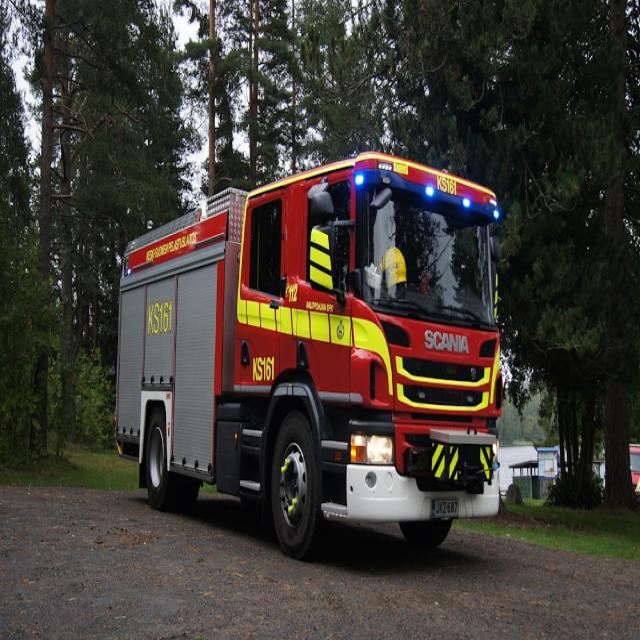emergency: (115, 152, 501, 556)
